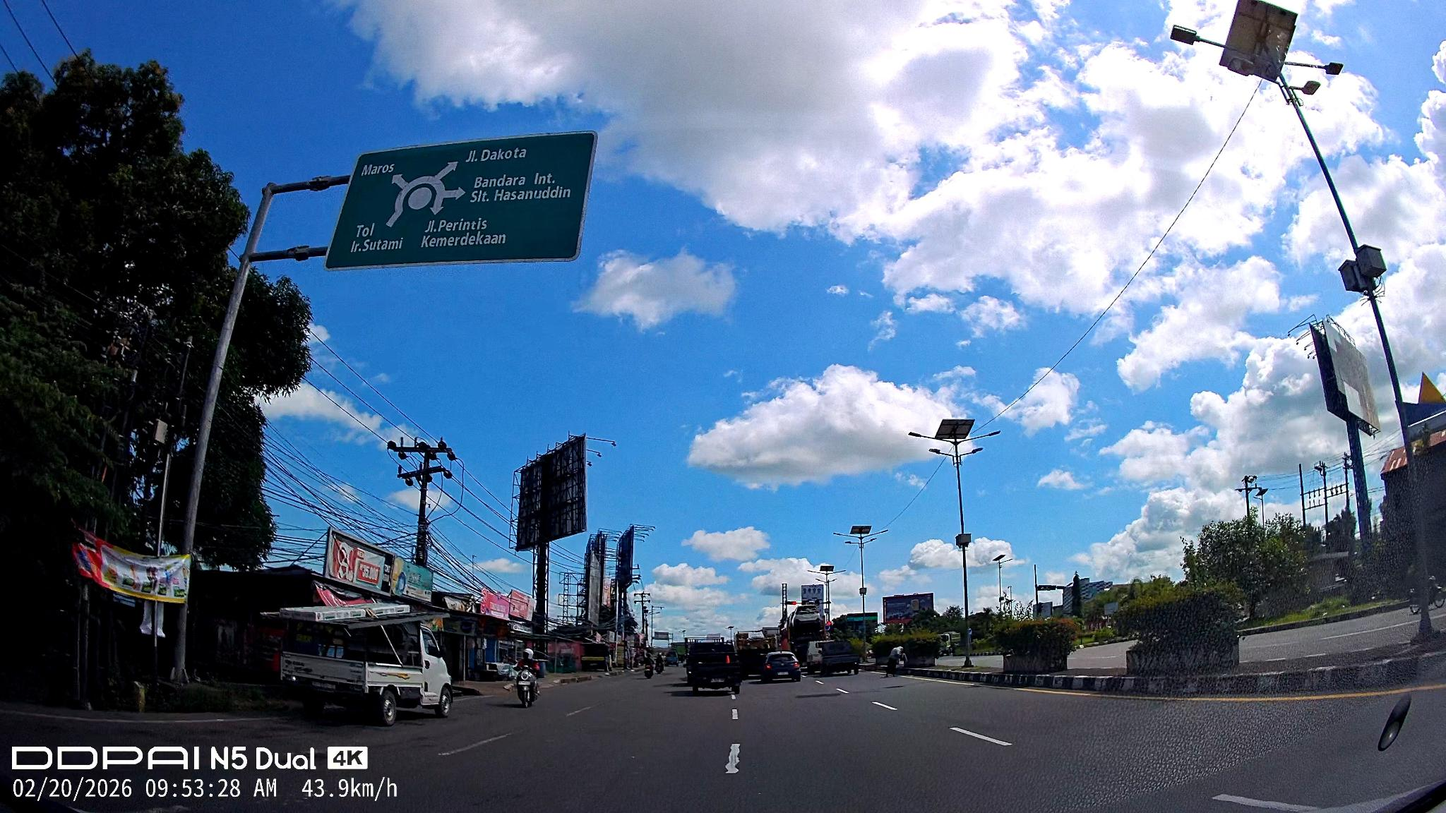rambu_teks: (321, 129, 598, 272)
